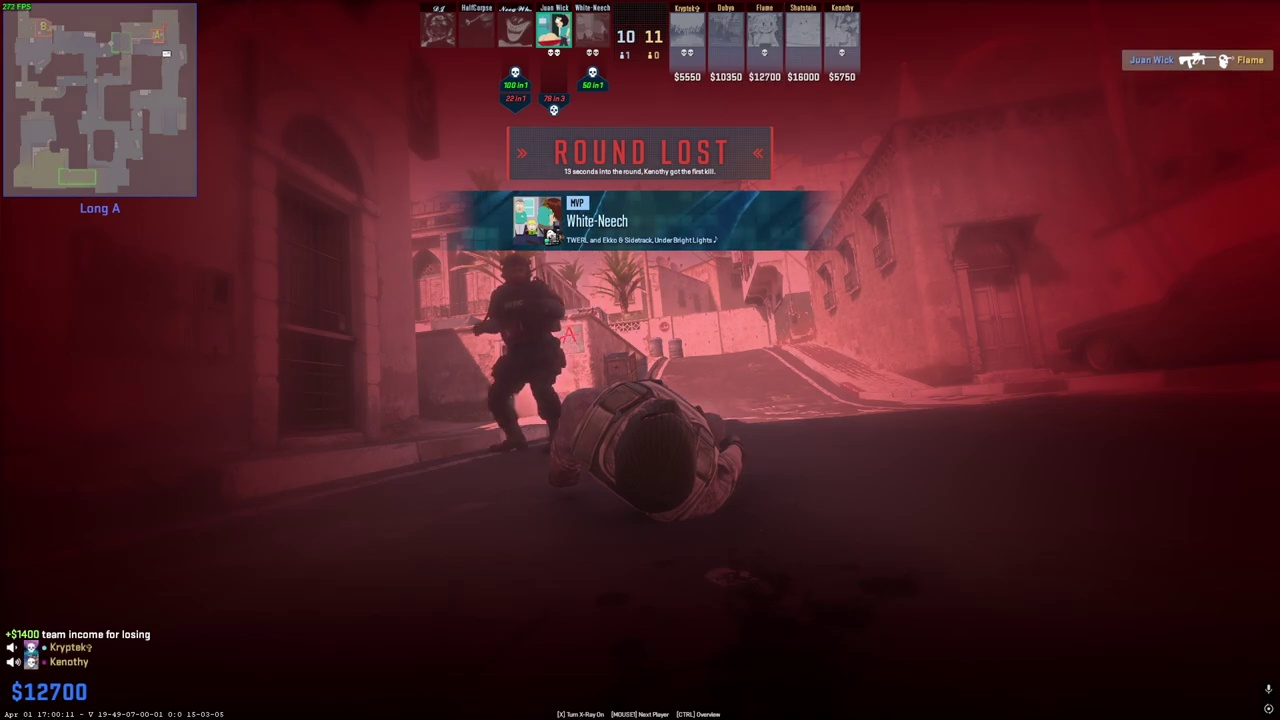CT: (482, 255, 563, 449)
